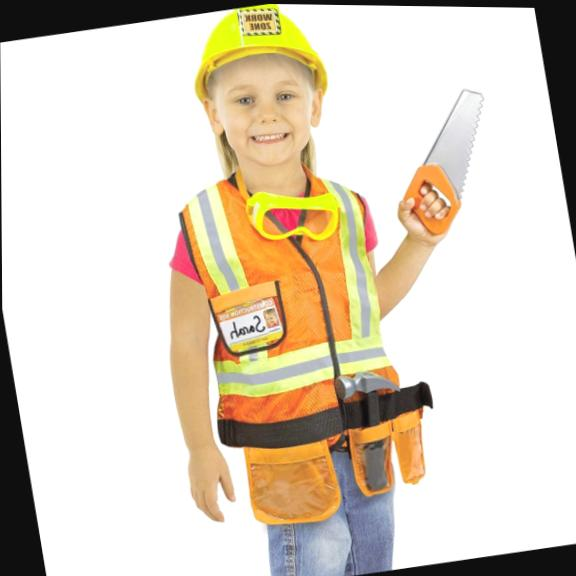safety_vest: (180, 157, 422, 539)
